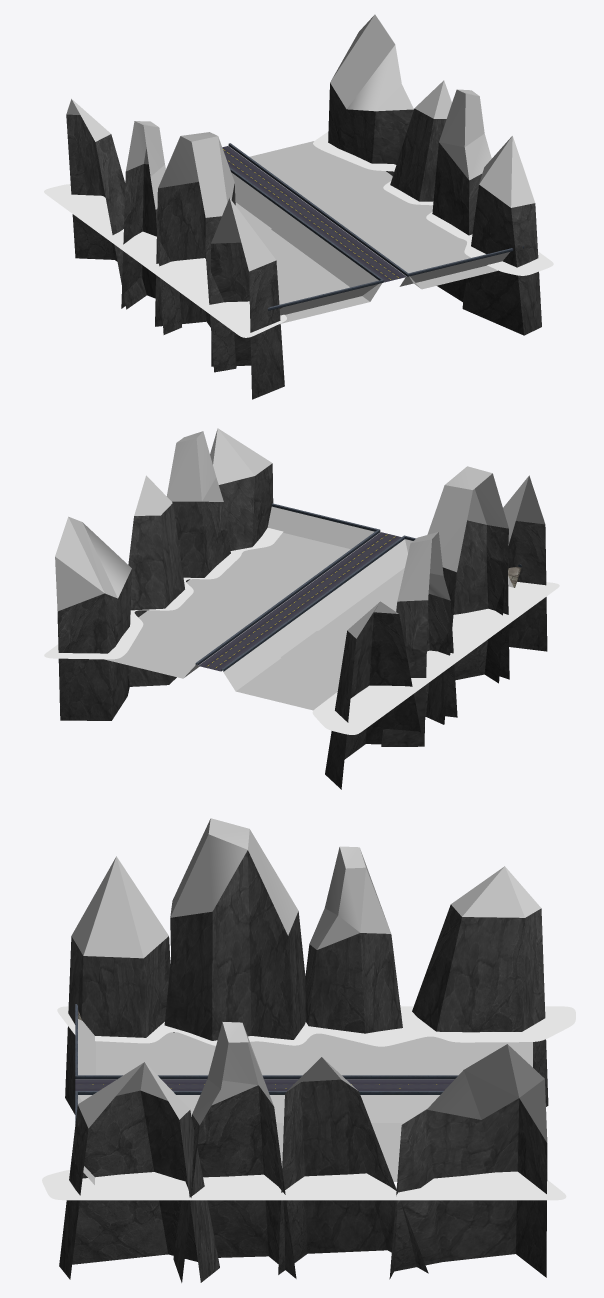
The model's file is citywinter_11.fbx.
The picture shows the model from 3 angles, top to bottom: view 1: azimuth 30°, elevation 25°; view 2: azimuth 150°, elevation 25°; view 3: azimuth 270°, elevation 25°; orthographic projection. The views are drawn at different scales.
Visible parts, largest first — view 1: City_11; view 2: City_11; view 3: City_11.
Boxes of the visible parts, <box> form: City_11: <box>44,14,553,399</box>; City_11: <box>44,428,559,789</box>; City_11: <box>42,818,575,1282</box>.
Bounding box in the file's own units: 22617 × 13384 × 25170.
